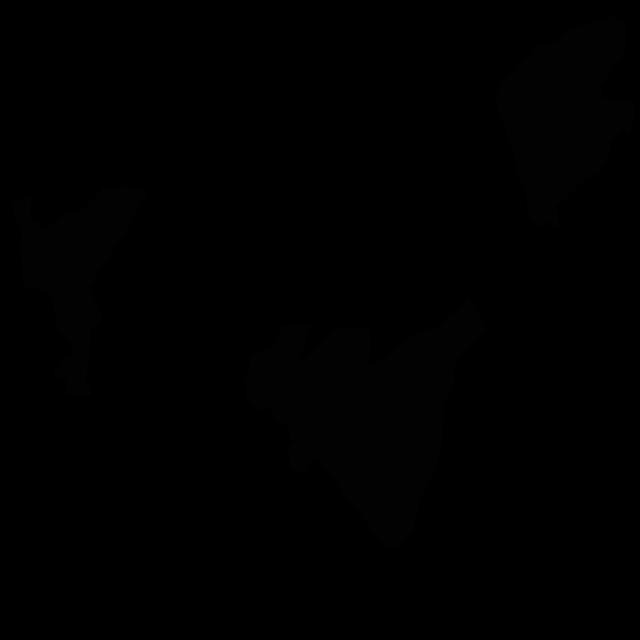cardboard: (240, 295, 488, 550), (494, 15, 636, 229), (12, 185, 147, 398)
